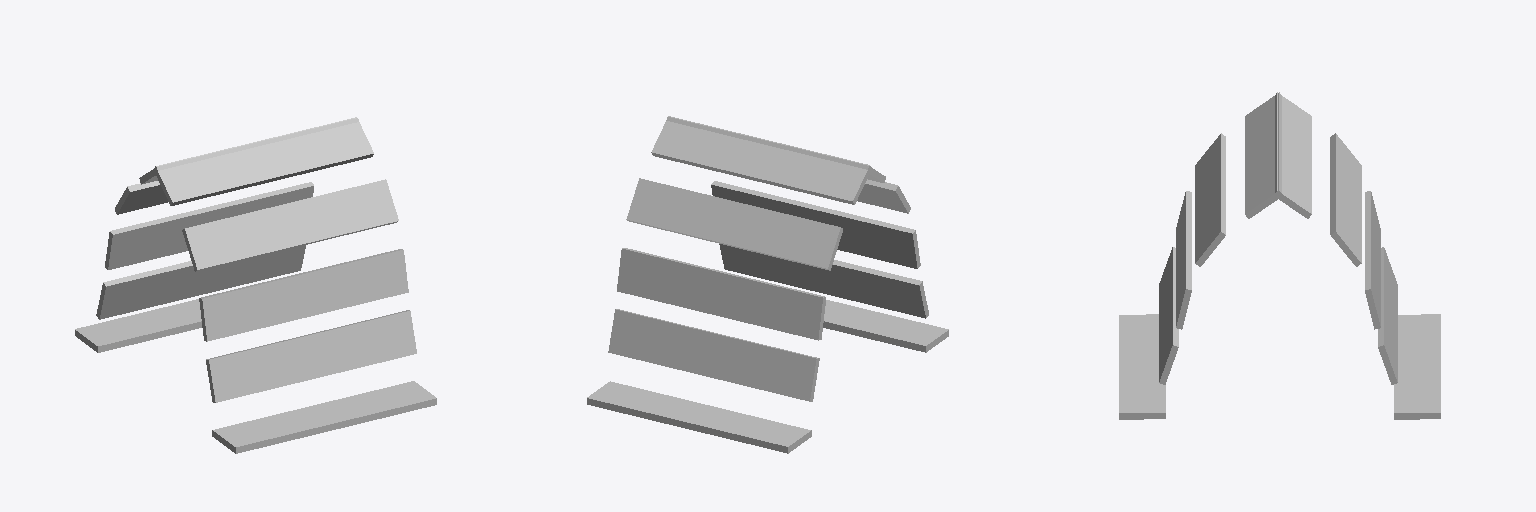
File: Tabuas.obj
The picture shows the model from 3 angles: view 1: azimuth 30°, elevation 25°; view 2: azimuth 150°, elevation 25°; view 3: azimuth 270°, elevation 25°; orthographic projection.
Visible parts, largest first — view 1: dosky_strecha1; view 2: dosky_strecha1; view 3: dosky_strecha1.
Boxes of the visible parts, <box> form: dosky_strecha1: <box>75,117,436,453</box>; dosky_strecha1: <box>587,116,948,453</box>; dosky_strecha1: <box>1119,92,1440,419</box>.
Size of the model in its own units: 0.0449 by 0.0487 by 0.0622.